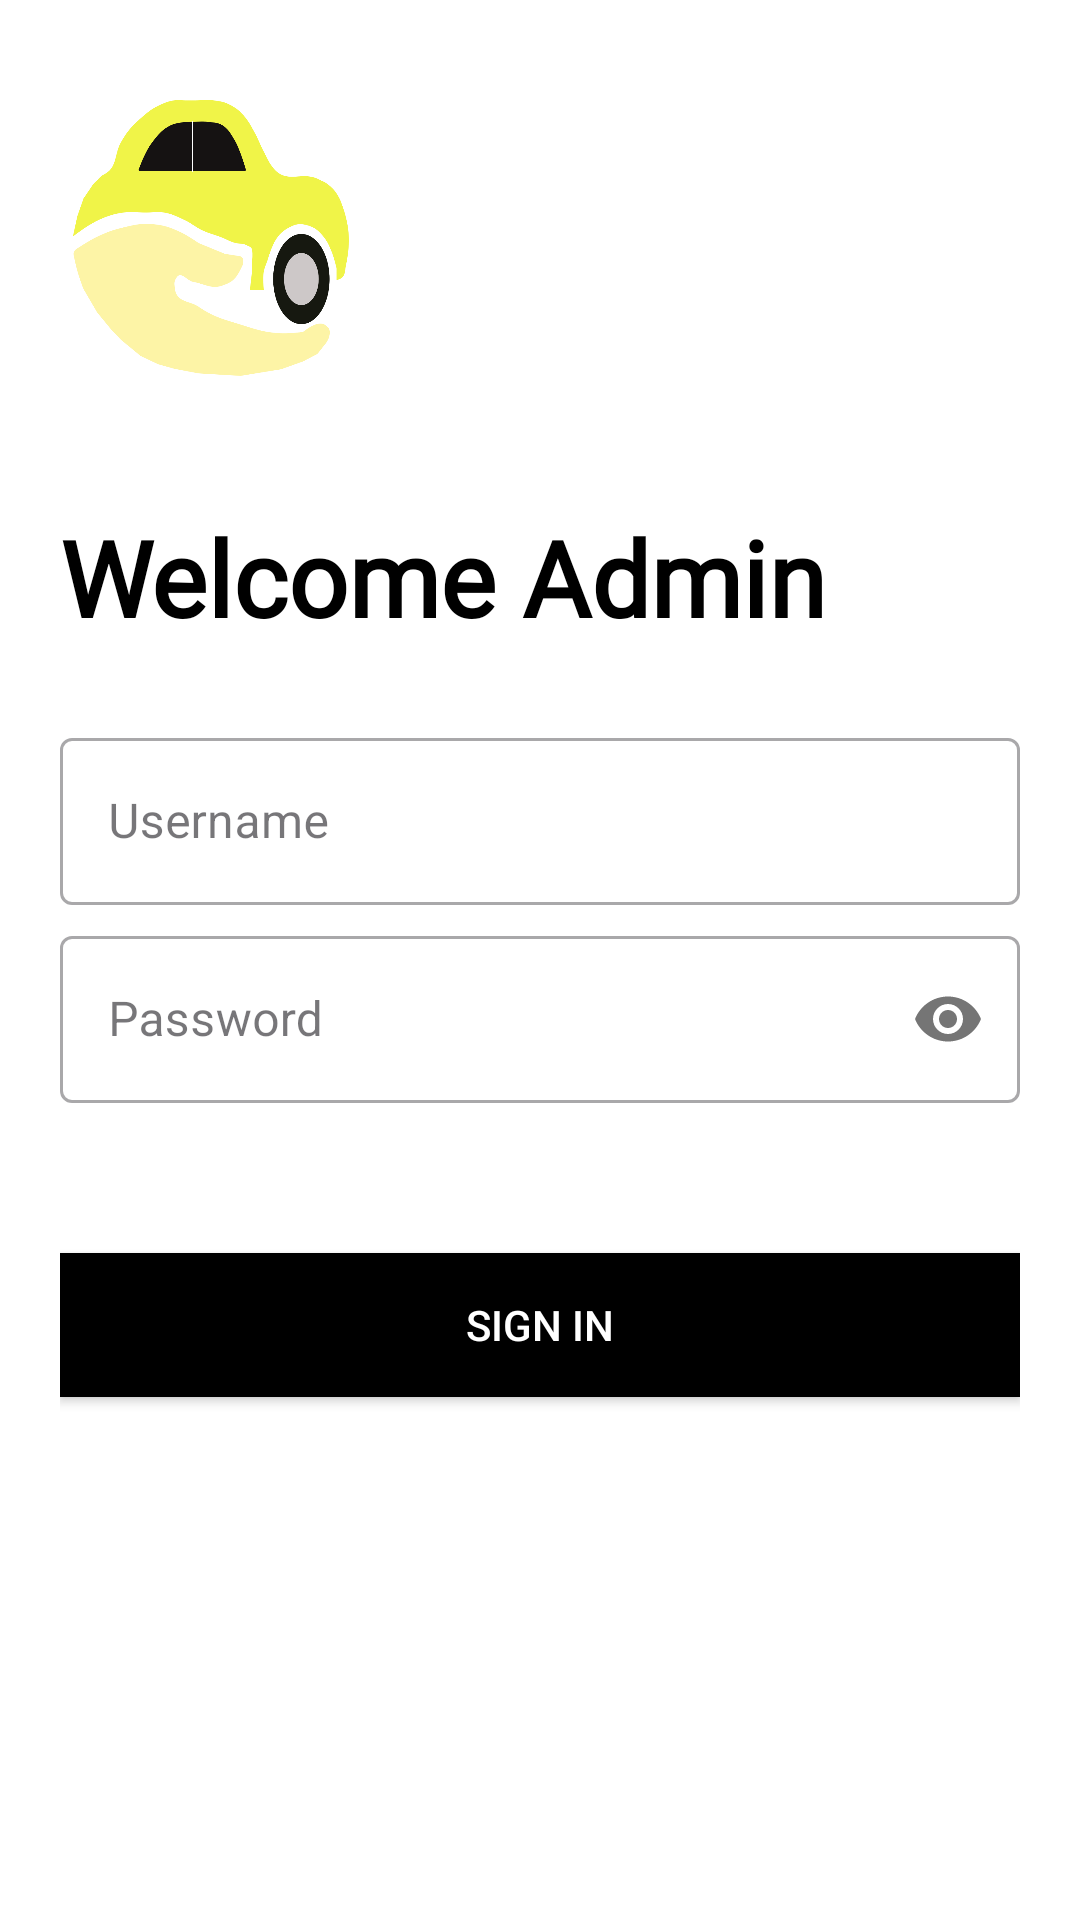

Named icons in this screenshot (1080w x 1920h) and their bounding boxes, (x1, y1, x2, y2):
car: (73, 100, 349, 376)
